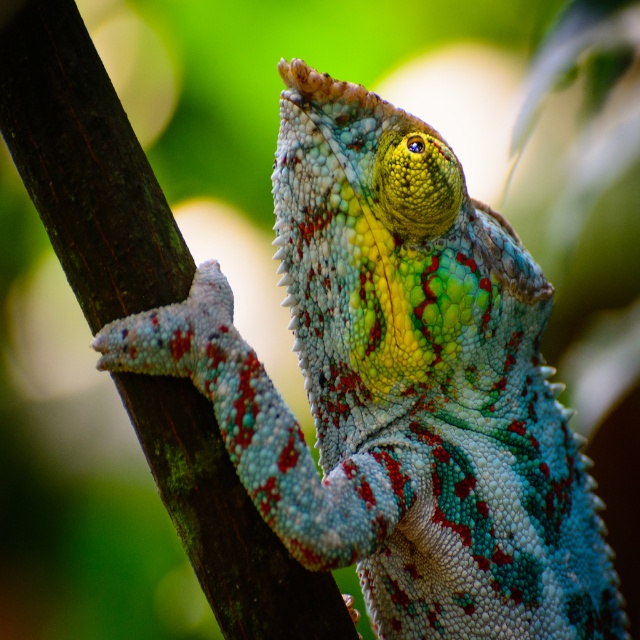Lizard: (153, 19, 611, 640)
